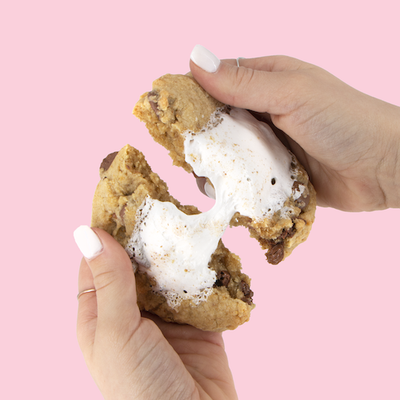salad: (90, 68, 318, 333)
